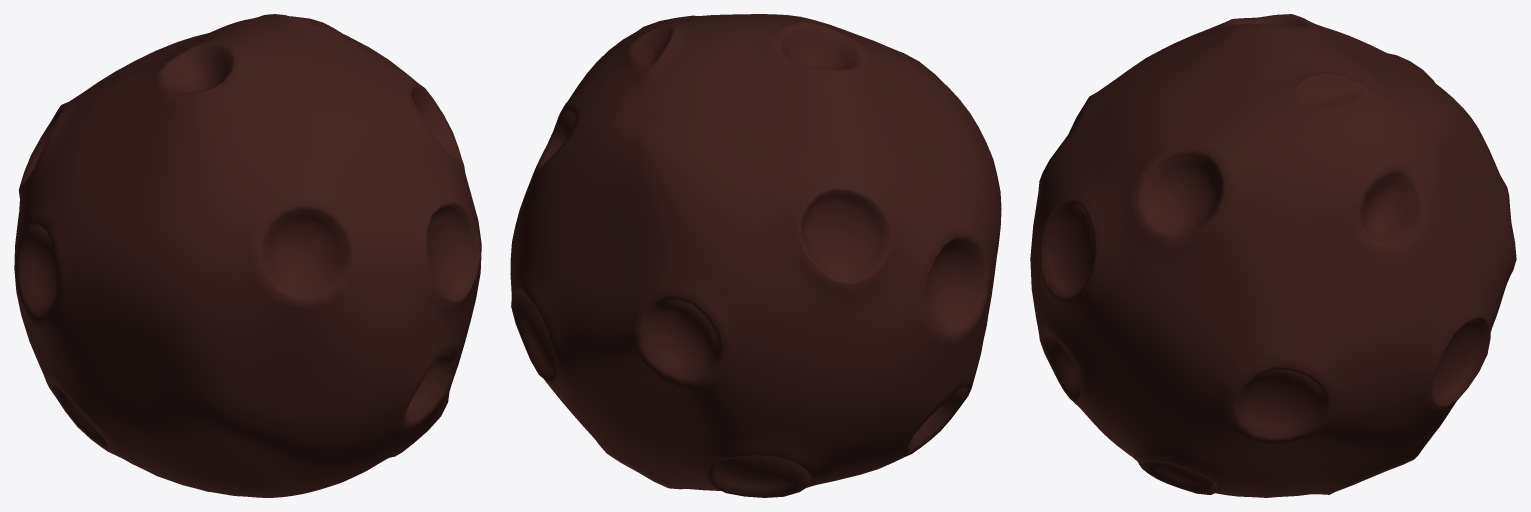
File: Asteroid.fbx
The picture shows the model from 3 angles, left to right: view 1: azimuth 30°, elevation 25°; view 2: azimuth 150°, elevation 25°; view 3: azimuth 270°, elevation 25°; orthographic projection. The views are drawn at different scales.
Visible parts, largest first — view 1: asteroid; view 2: asteroid; view 3: asteroid.
Boxes of the visible parts, bbox=[...] form: asteroid: bbox=[14, 14, 481, 497]; asteroid: bbox=[510, 14, 1001, 497]; asteroid: bbox=[1030, 14, 1516, 497].
Bounding box in the file's own units: 199 × 196 × 198.
